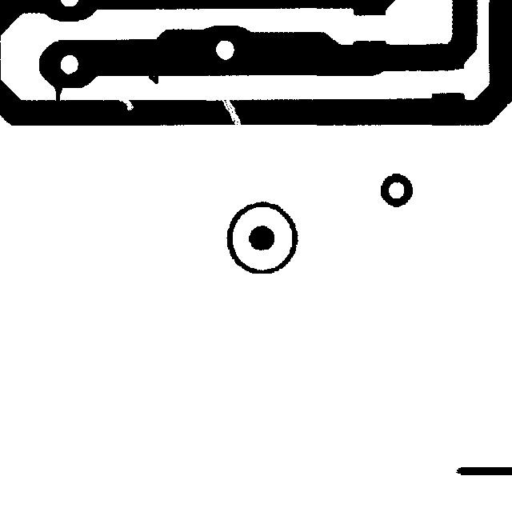mousebite: (111, 91, 141, 118)
open: (213, 90, 250, 135)
short: (44, 74, 70, 112)
spur: (140, 65, 166, 91)
